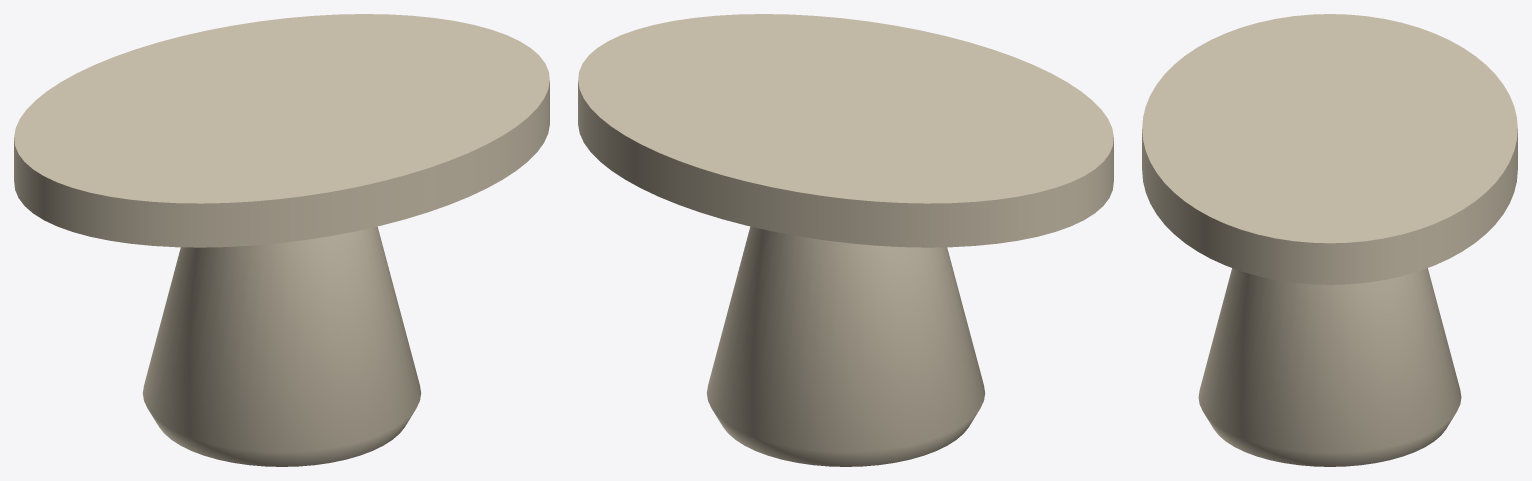
The model's file is wh-oval-travertine-coffee-table.glb.
3 renders of one model, left to right at view 1: azimuth 30°, elevation 25°; view 2: azimuth 150°, elevation 25°; view 3: azimuth 270°, elevation 25°, orthographic. The views are drawn at different scales.
Visible parts, largest first — view 1: Round or oval tabletop.011; view 2: Round or oval tabletop.011; view 3: Round or oval tabletop.011.
Boxes of the visible parts, x1,y1,x2,y2 form: Round or oval tabletop.011: (14, 14, 549, 466); Round or oval tabletop.011: (578, 14, 1113, 466); Round or oval tabletop.011: (1142, 14, 1517, 466).
Bounding box in the file's own units: 0.65 × 0.38 × 0.45.
